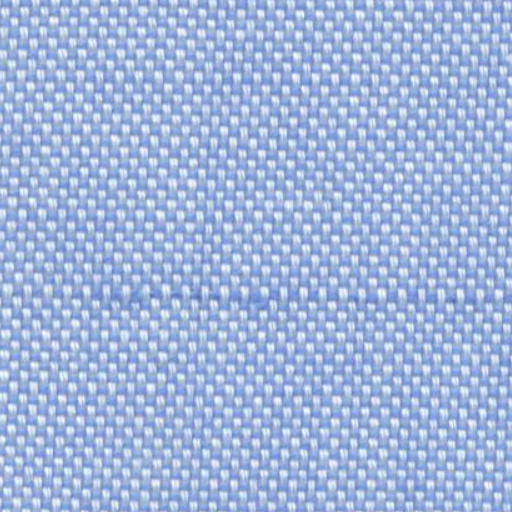DaiSha: (16, 268, 492, 318)
